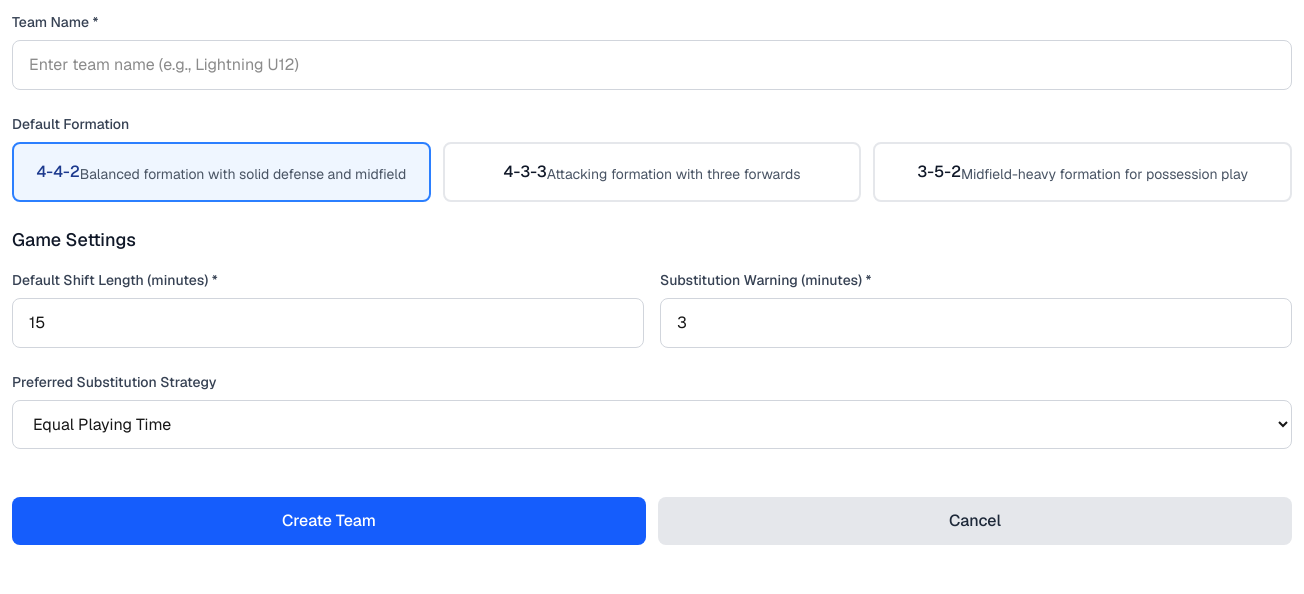
Scenario: TeamSetup Component › TeamForm Component › should validate team name length
The image size is (1304, 594).
Type "A" into the field labelled "Team Name *" at (652, 65), box [12,40,1292,90]
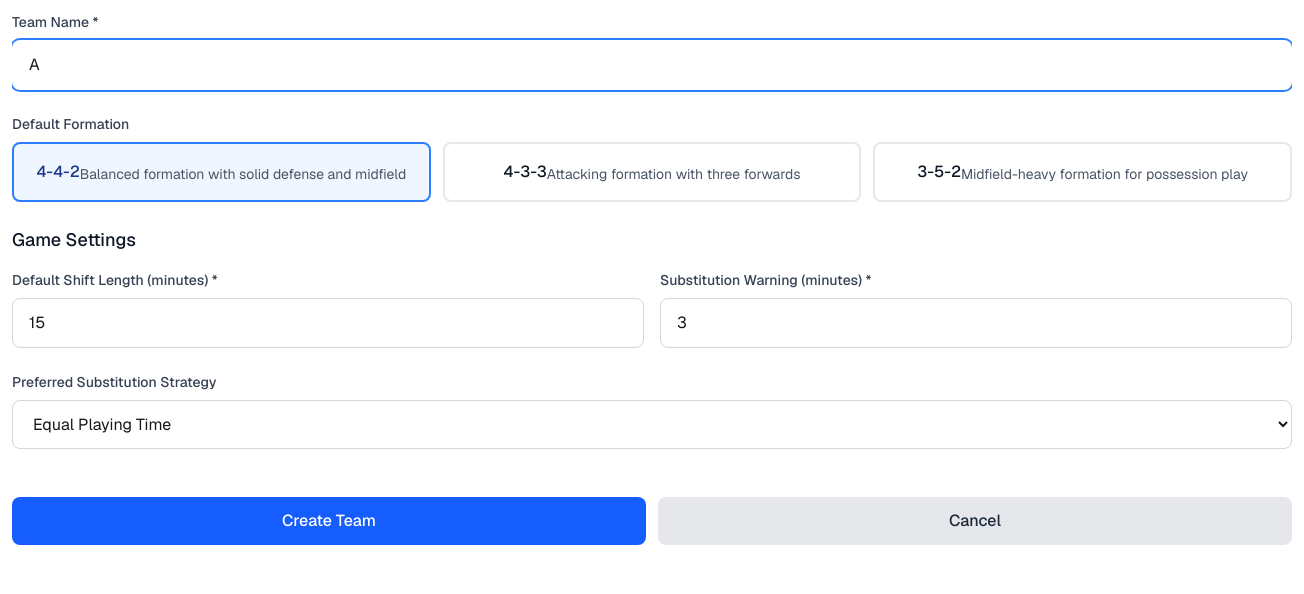
Click the button "Create Team" at (329, 521), box [12,497,646,545]
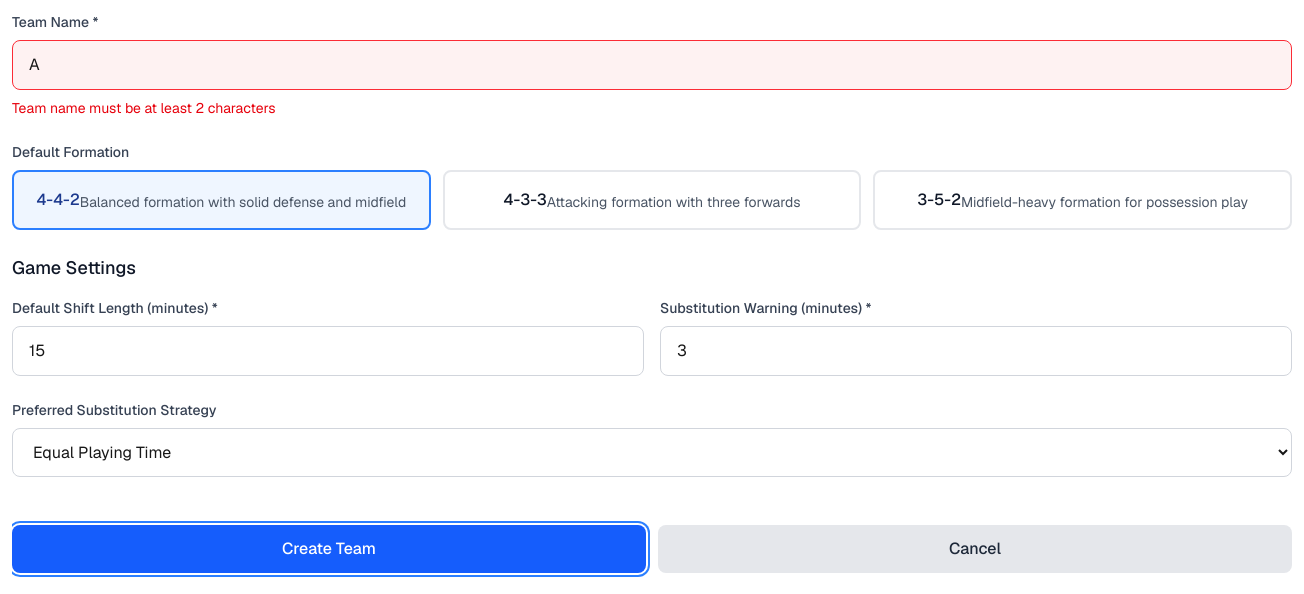
Expected: the text "Team name must be at least 2 characters" is shown, [12,99,275,117]
